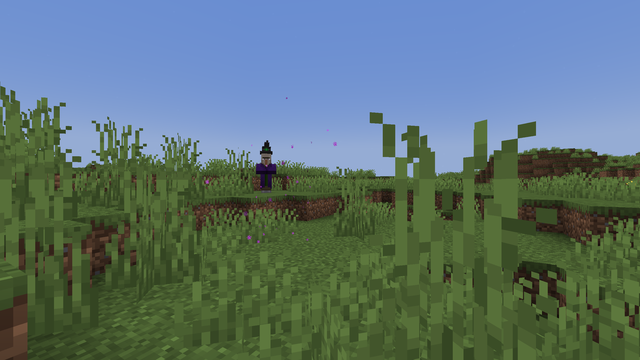sorcieres: (257, 151, 274, 192)
